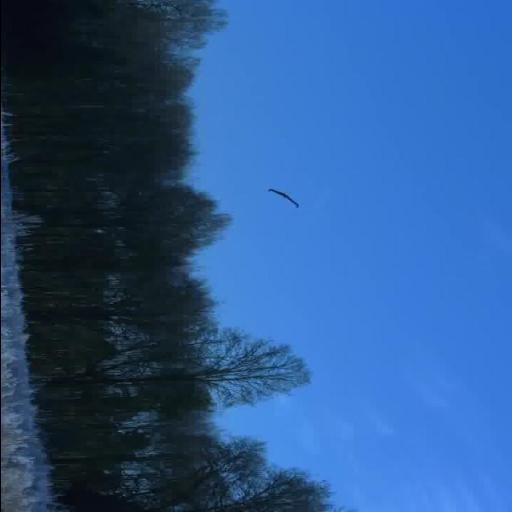uav: (259, 184, 301, 214)
